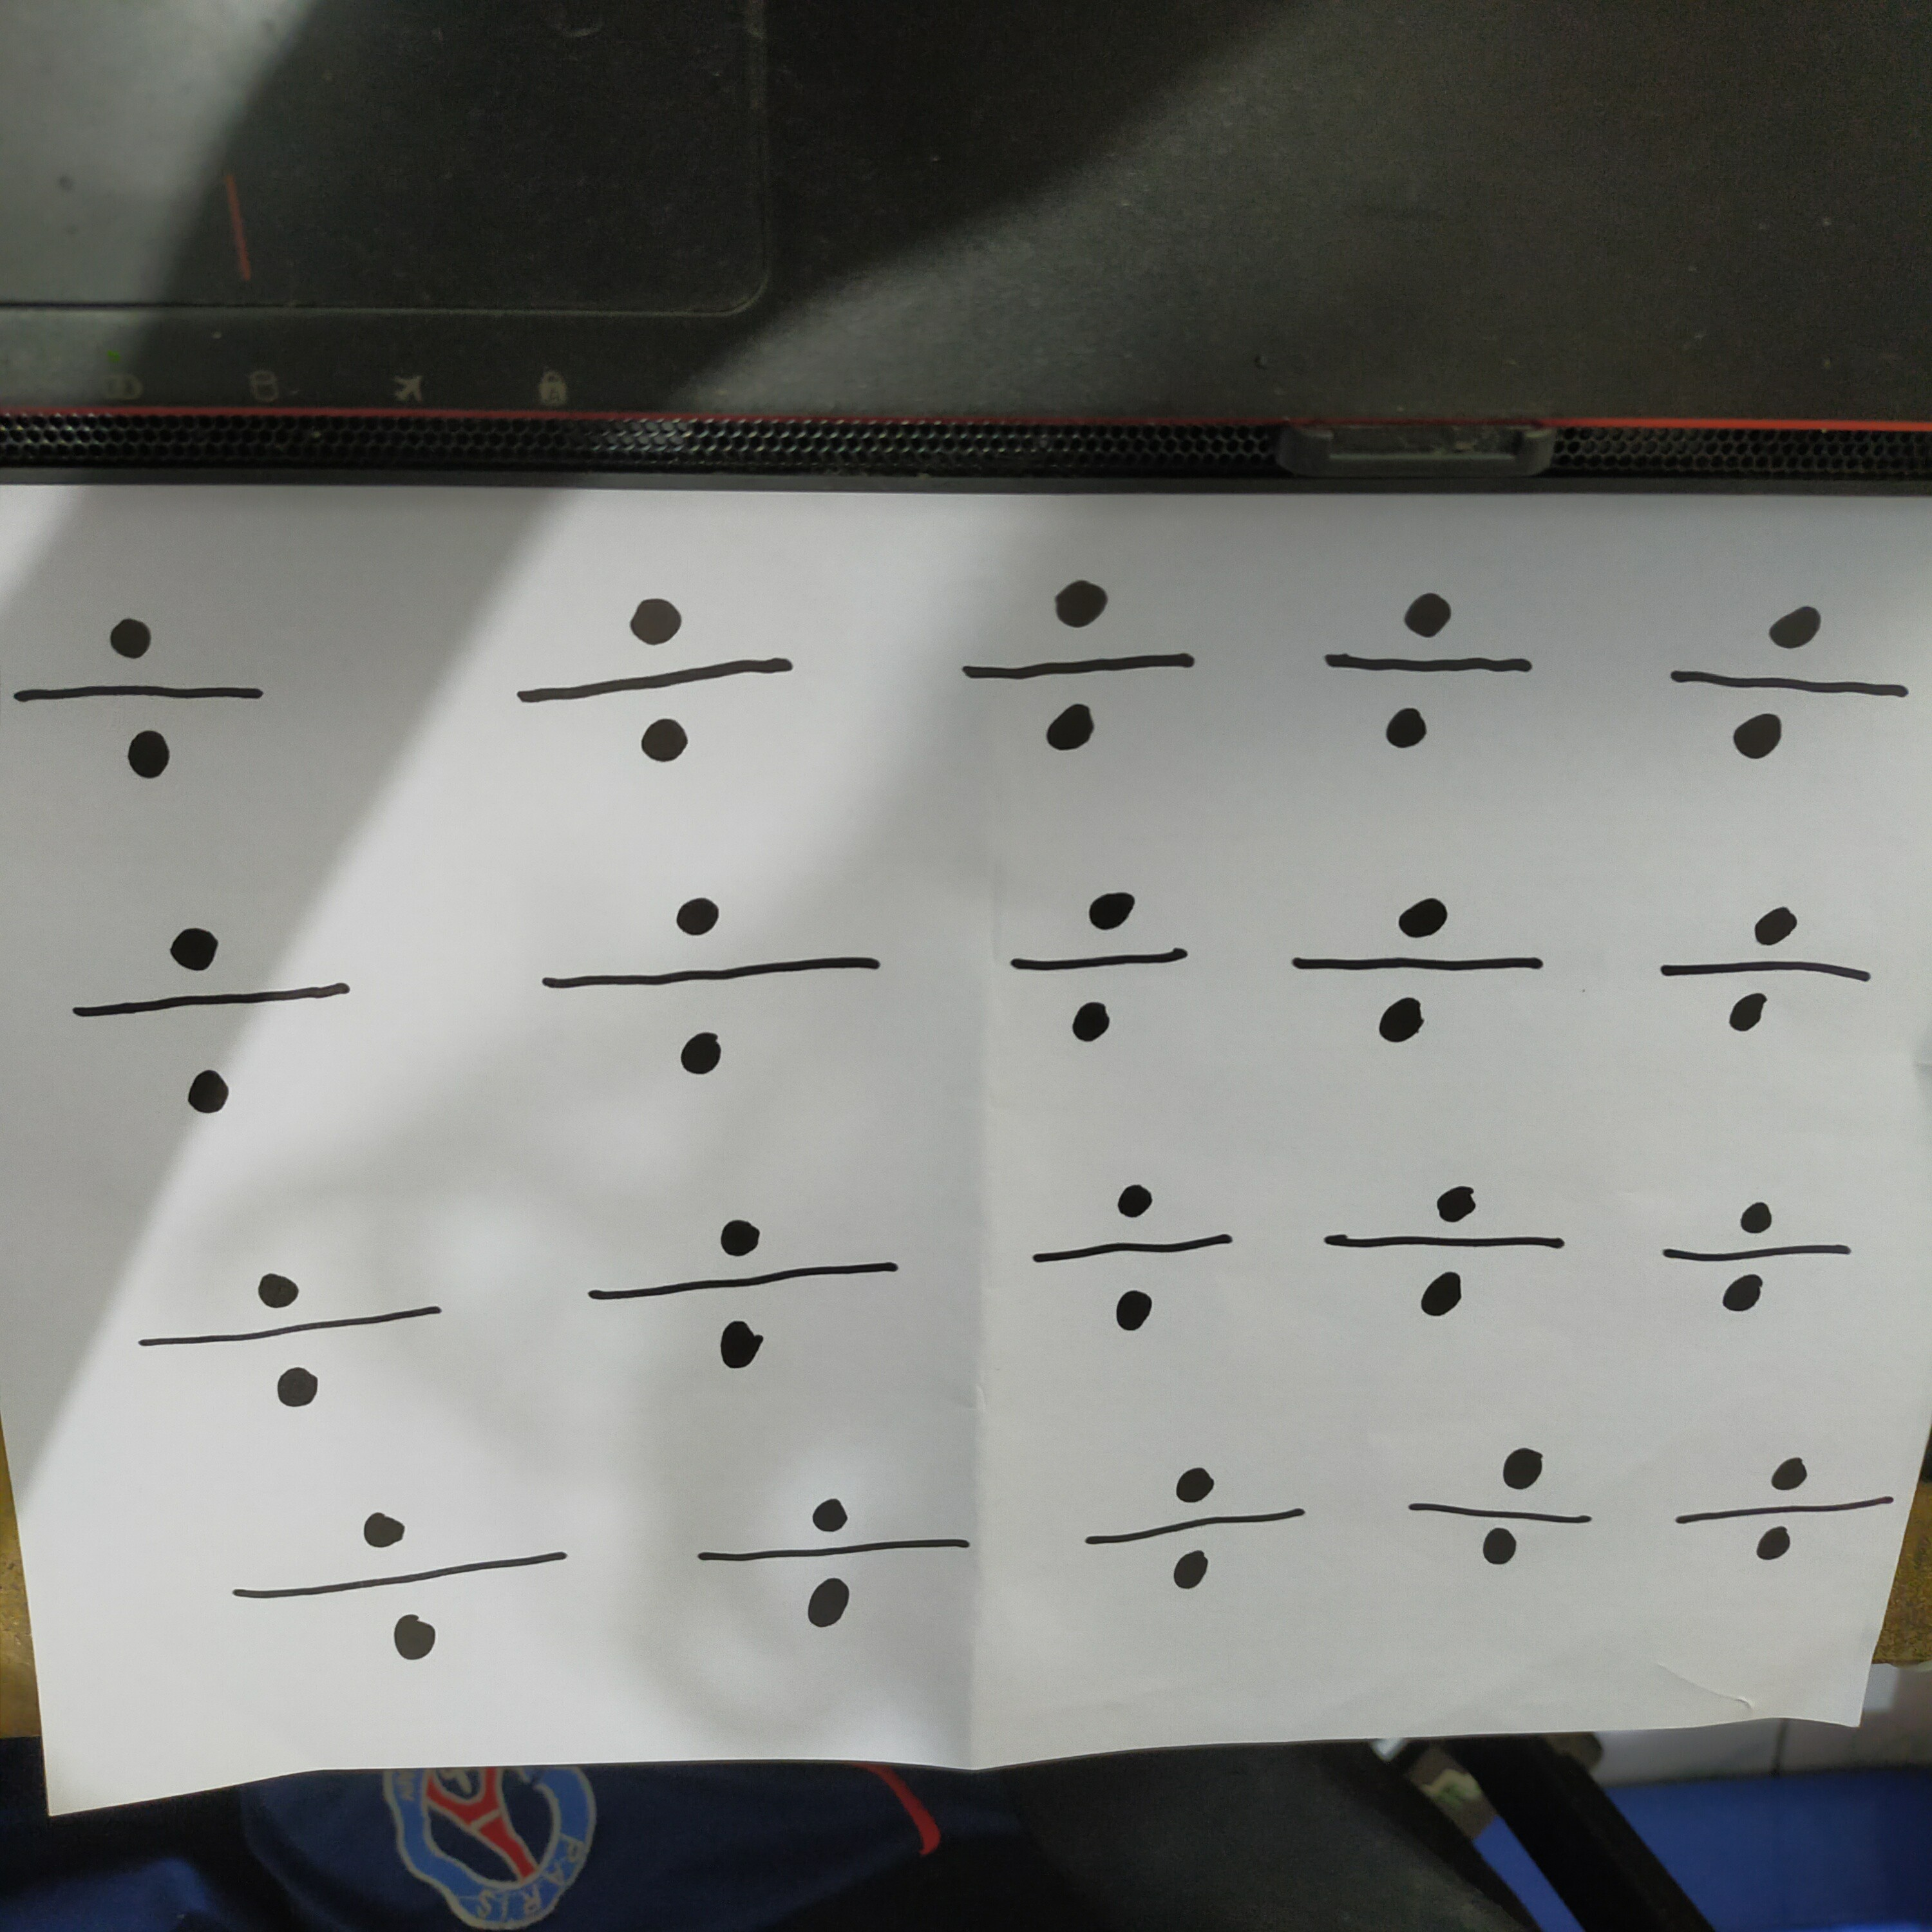div: (538, 887, 901, 1088), (46, 911, 372, 1130), (499, 579, 821, 798), (585, 1200, 925, 1391), (12, 600, 308, 808), (1274, 872, 1573, 1075), (120, 1255, 470, 1422), (220, 1500, 585, 1660), (952, 573, 1221, 768), (1668, 591, 1924, 793), (677, 1486, 989, 1643), (1016, 1172, 1260, 1354), (1329, 1174, 1578, 1342), (1317, 581, 1535, 764), (995, 878, 1204, 1063), (1656, 899, 1885, 1053), (1086, 1457, 1319, 1598), (1393, 1444, 1609, 1580), (1680, 1446, 1902, 1577), (1656, 1190, 1865, 1331)
